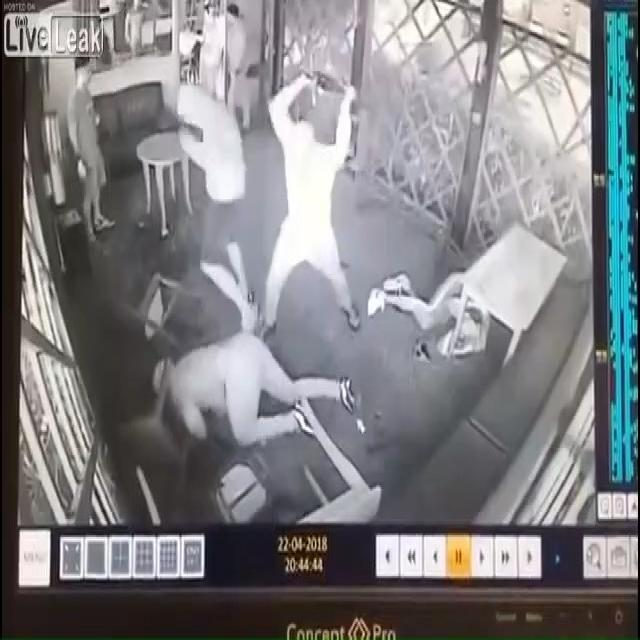fight: (132, 60, 396, 470)
